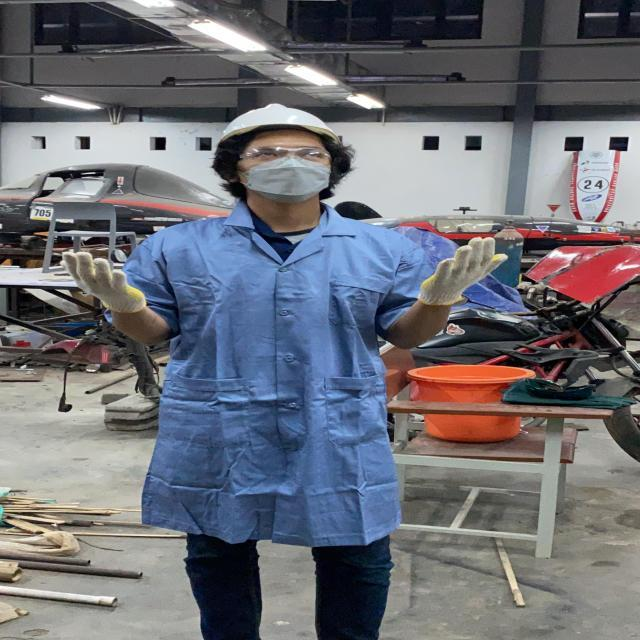glasses: (232, 145, 340, 165)
